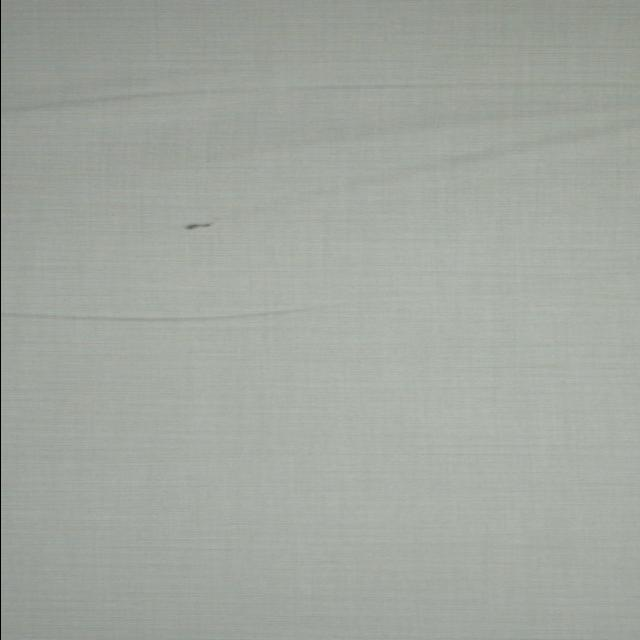dirty: (184, 222, 214, 230)
